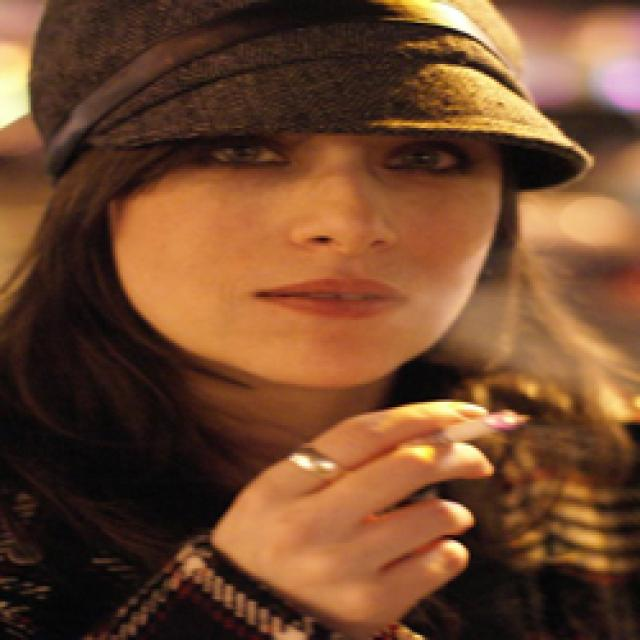Smooking: (431, 406, 528, 447)
